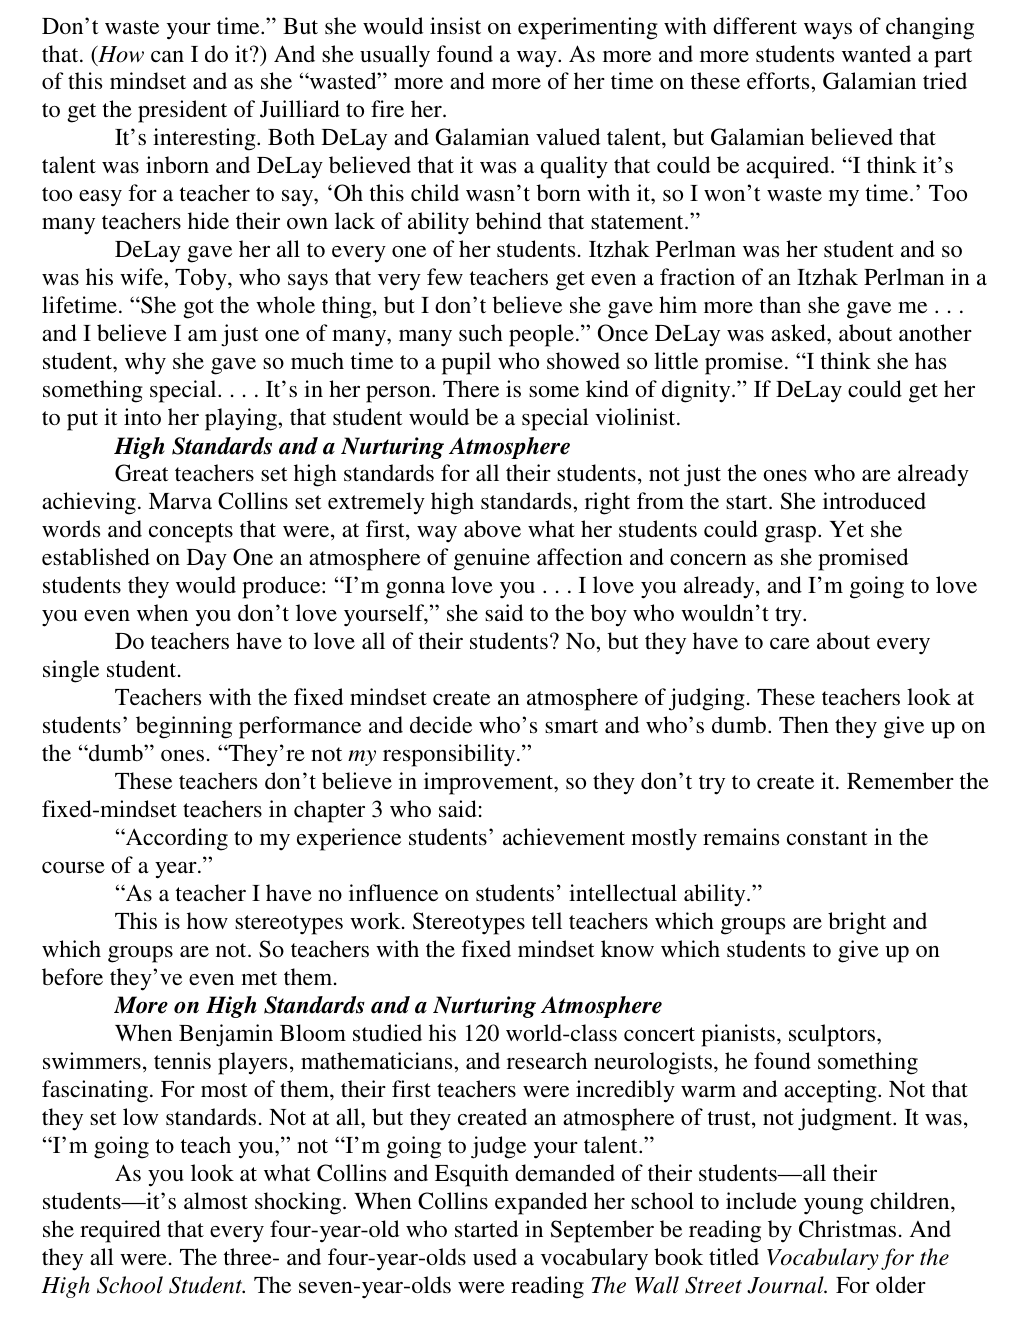latin: (31, 627, 983, 993), (31, 125, 988, 434), (34, 1020, 971, 1305), (38, 460, 980, 627), (36, 14, 979, 123), (108, 993, 666, 1021), (112, 435, 573, 460)
